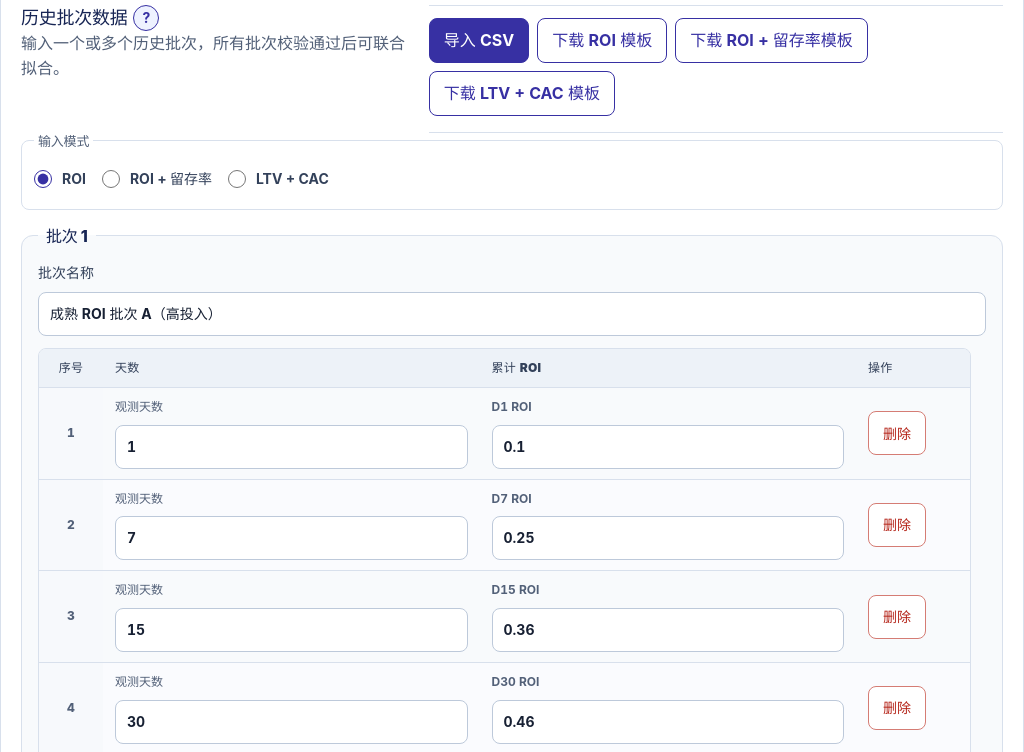
fit workspace › allows missing point retention but blocks an entered value above 100%
Click the radio button labelled "ROI + 留存率" at (111, 179), box [102,170,120,188]
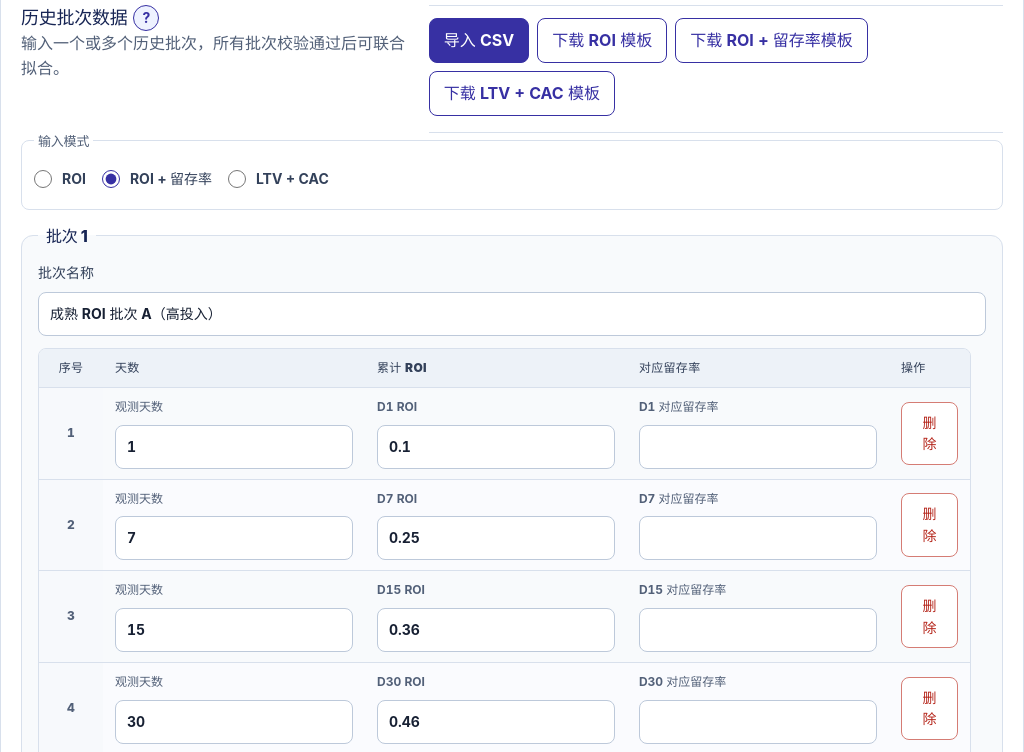
Type "101%" into the field labelled "D1 对应留存率" at (758, 447), box [639,425,877,469]
(page scrolled)
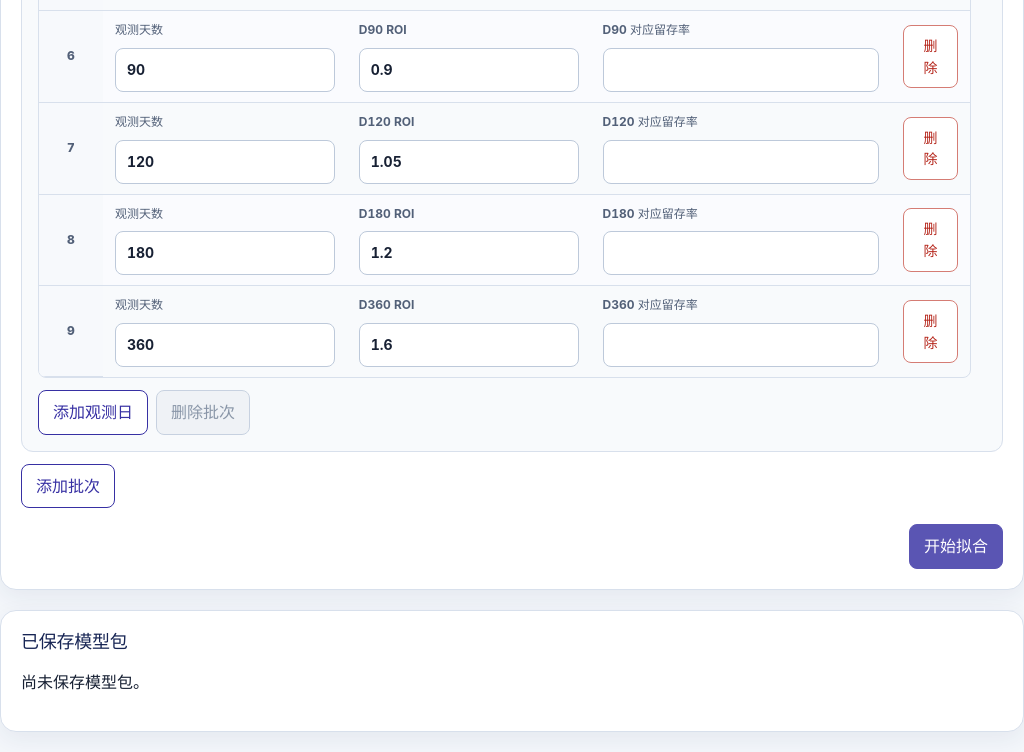
Expected: the button "开始拟合" is disabled, [909,524,1003,569]
